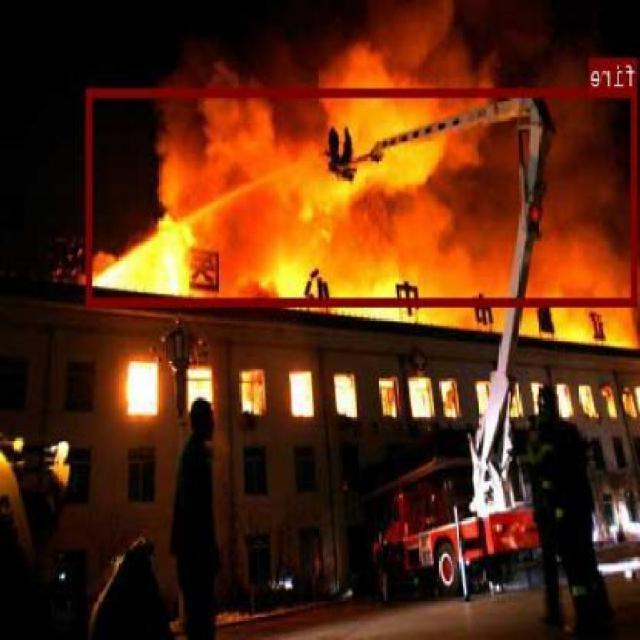Fire: (92, 168, 640, 324)
Smoke: (160, 0, 640, 257)
